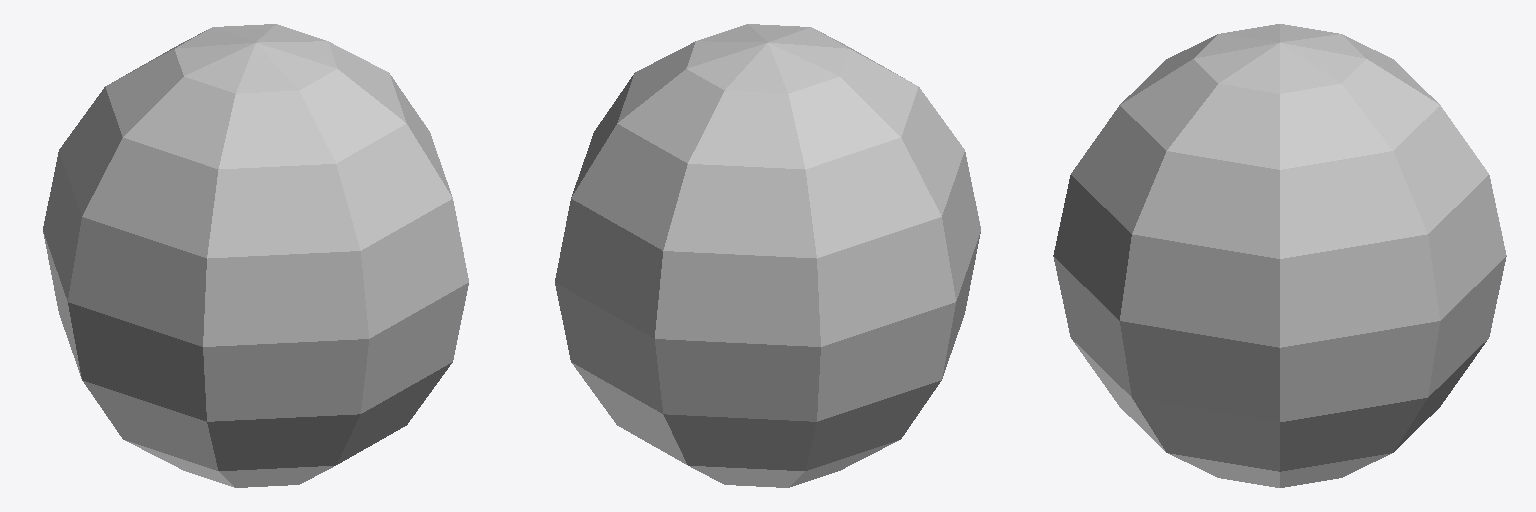
The model's file is Nucleus.obj.
3 renders of one model, left to right at view 1: azimuth 30°, elevation 25°; view 2: azimuth 150°, elevation 25°; view 3: azimuth 270°, elevation 25°, orthographic.
Parts seen in each view (by area): view 1: Sphere.001_Sphere.004; view 2: Sphere.001_Sphere.004; view 3: Sphere.001_Sphere.004.
Boxes of the visible parts, x1=… form: Sphere.001_Sphere.004: x1=43, y1=24, x2=468, y2=487; Sphere.001_Sphere.004: x1=555, y1=24, x2=980, y2=487; Sphere.001_Sphere.004: x1=1053, y1=24, x2=1506, y2=487.
Bounding box in the file's own units: 0.66 × 0.7149 × 0.6881.